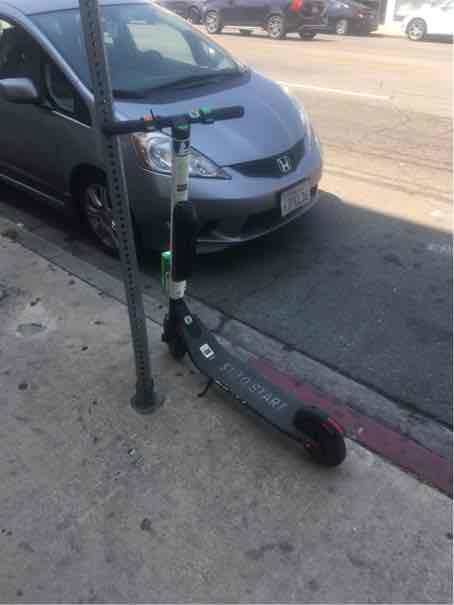scooter: (108, 97, 349, 460)
